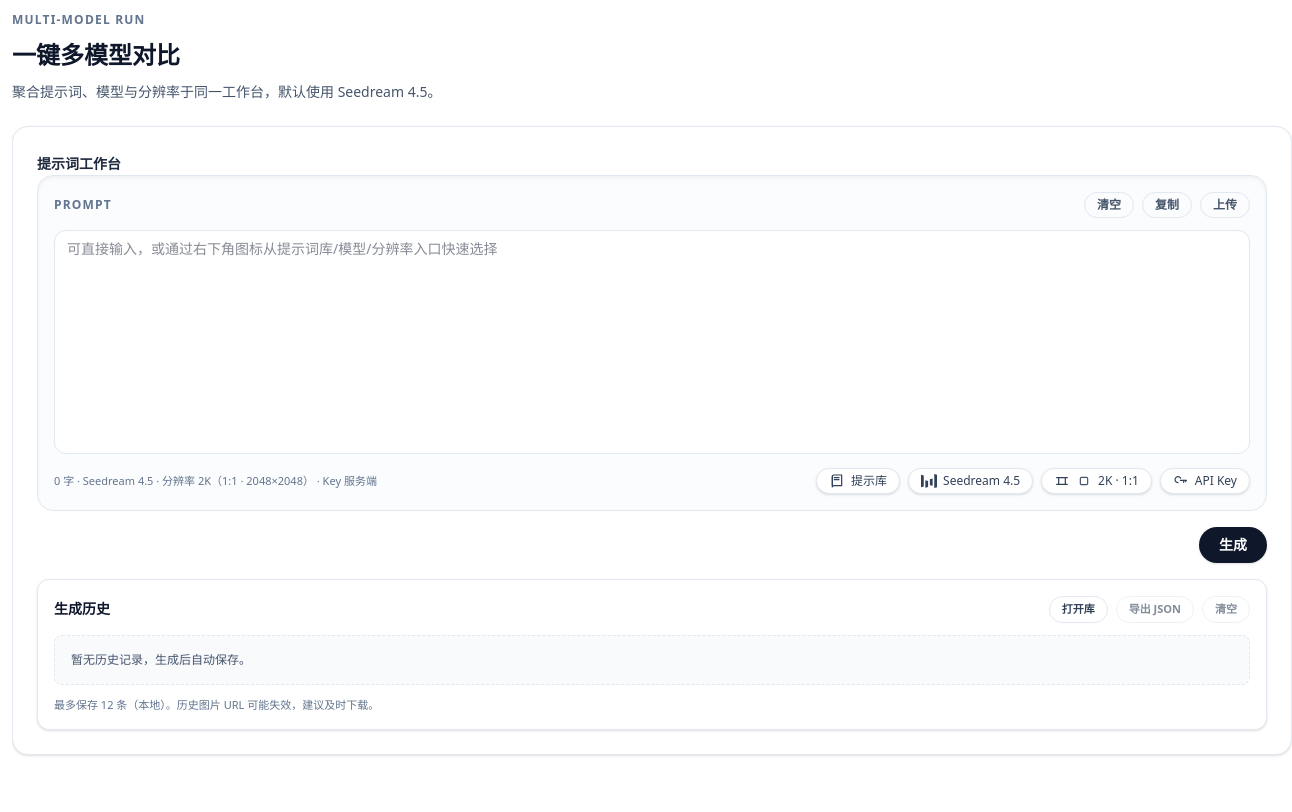
it: GenerateClient (MSW) › shows a friendly error on non-JSON /api/generate responses
Type "hello world" into the text box with placeholder "可直接输入，或通过右下角图标从提示词库/模型/分辨率入口快速选择" at (652, 342), box [54,230,1250,454]
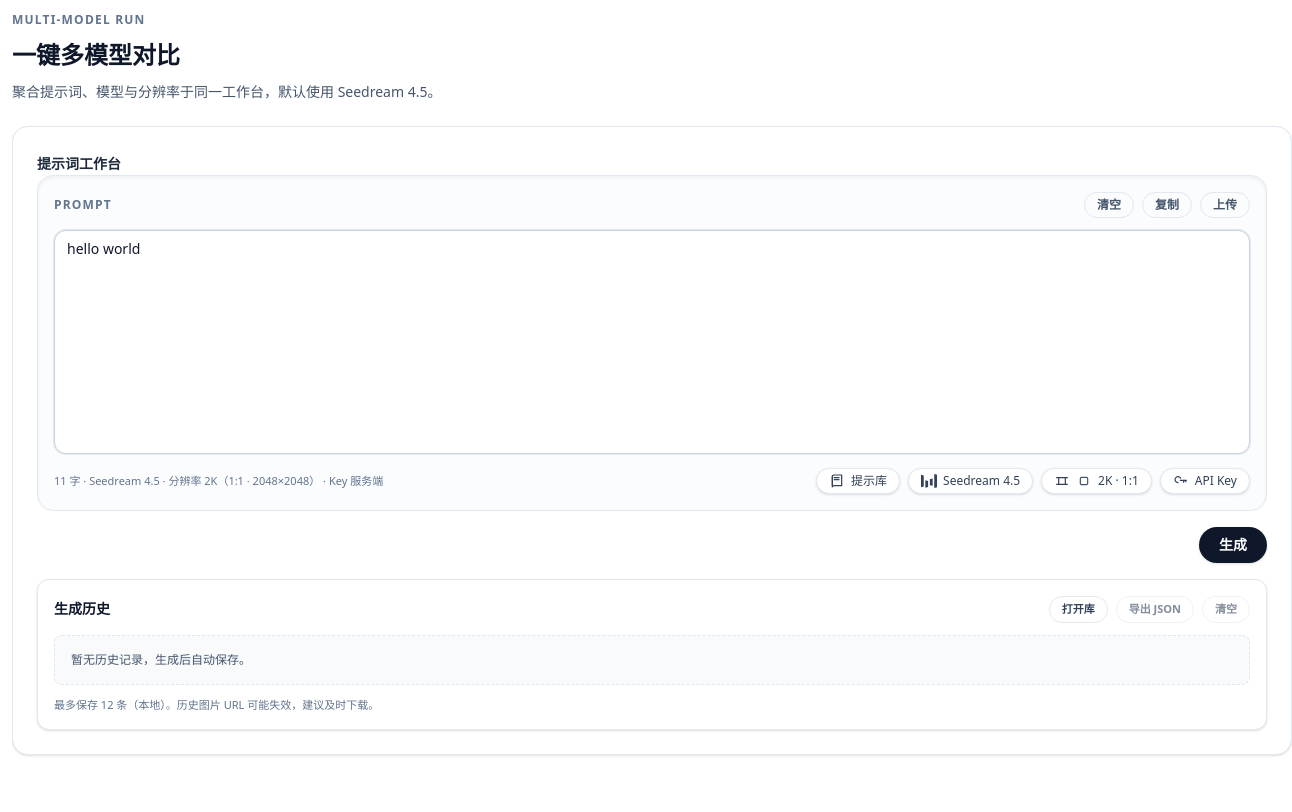
Click the button "生成" at (1233, 545), box [1199,527,1267,563]
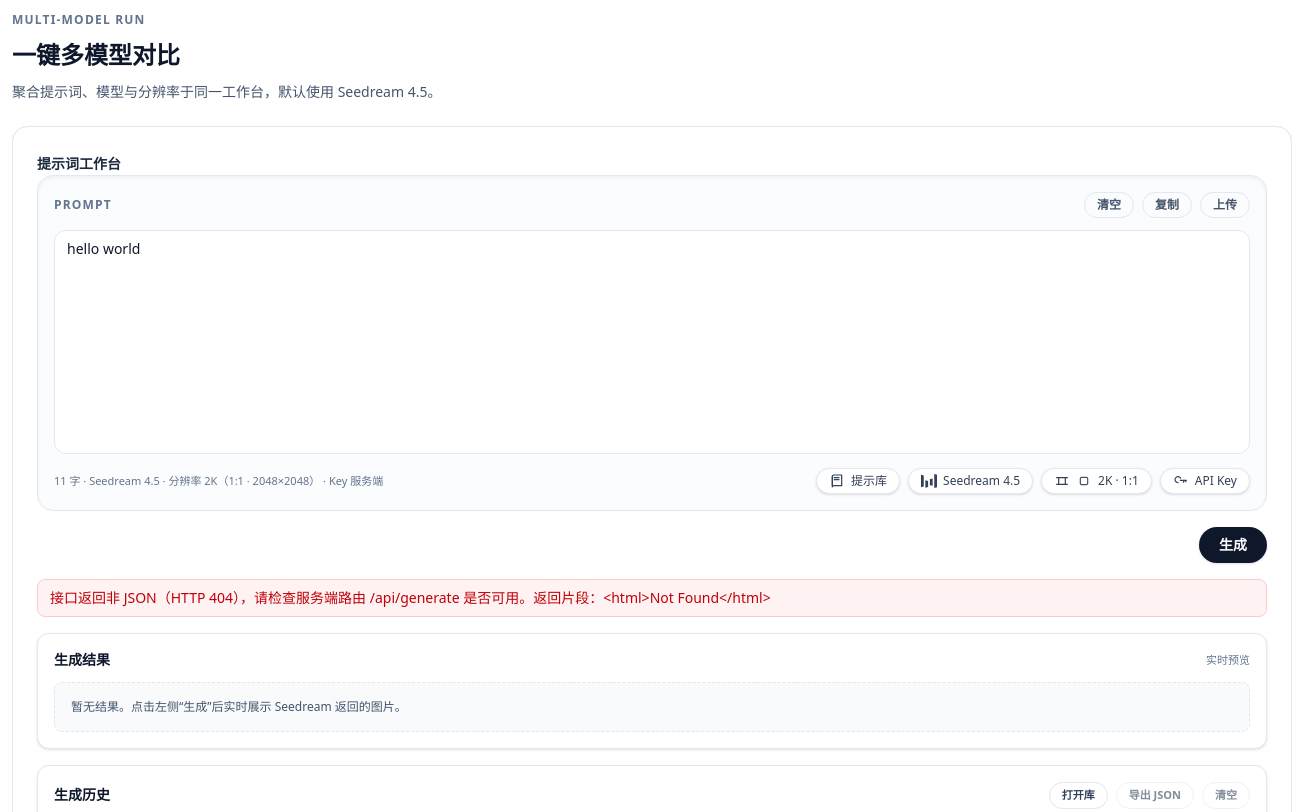
Now the text "HTTP 404" is shown, box [50,588,771,607]
